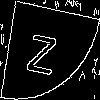Z: (25, 24, 60, 76)
